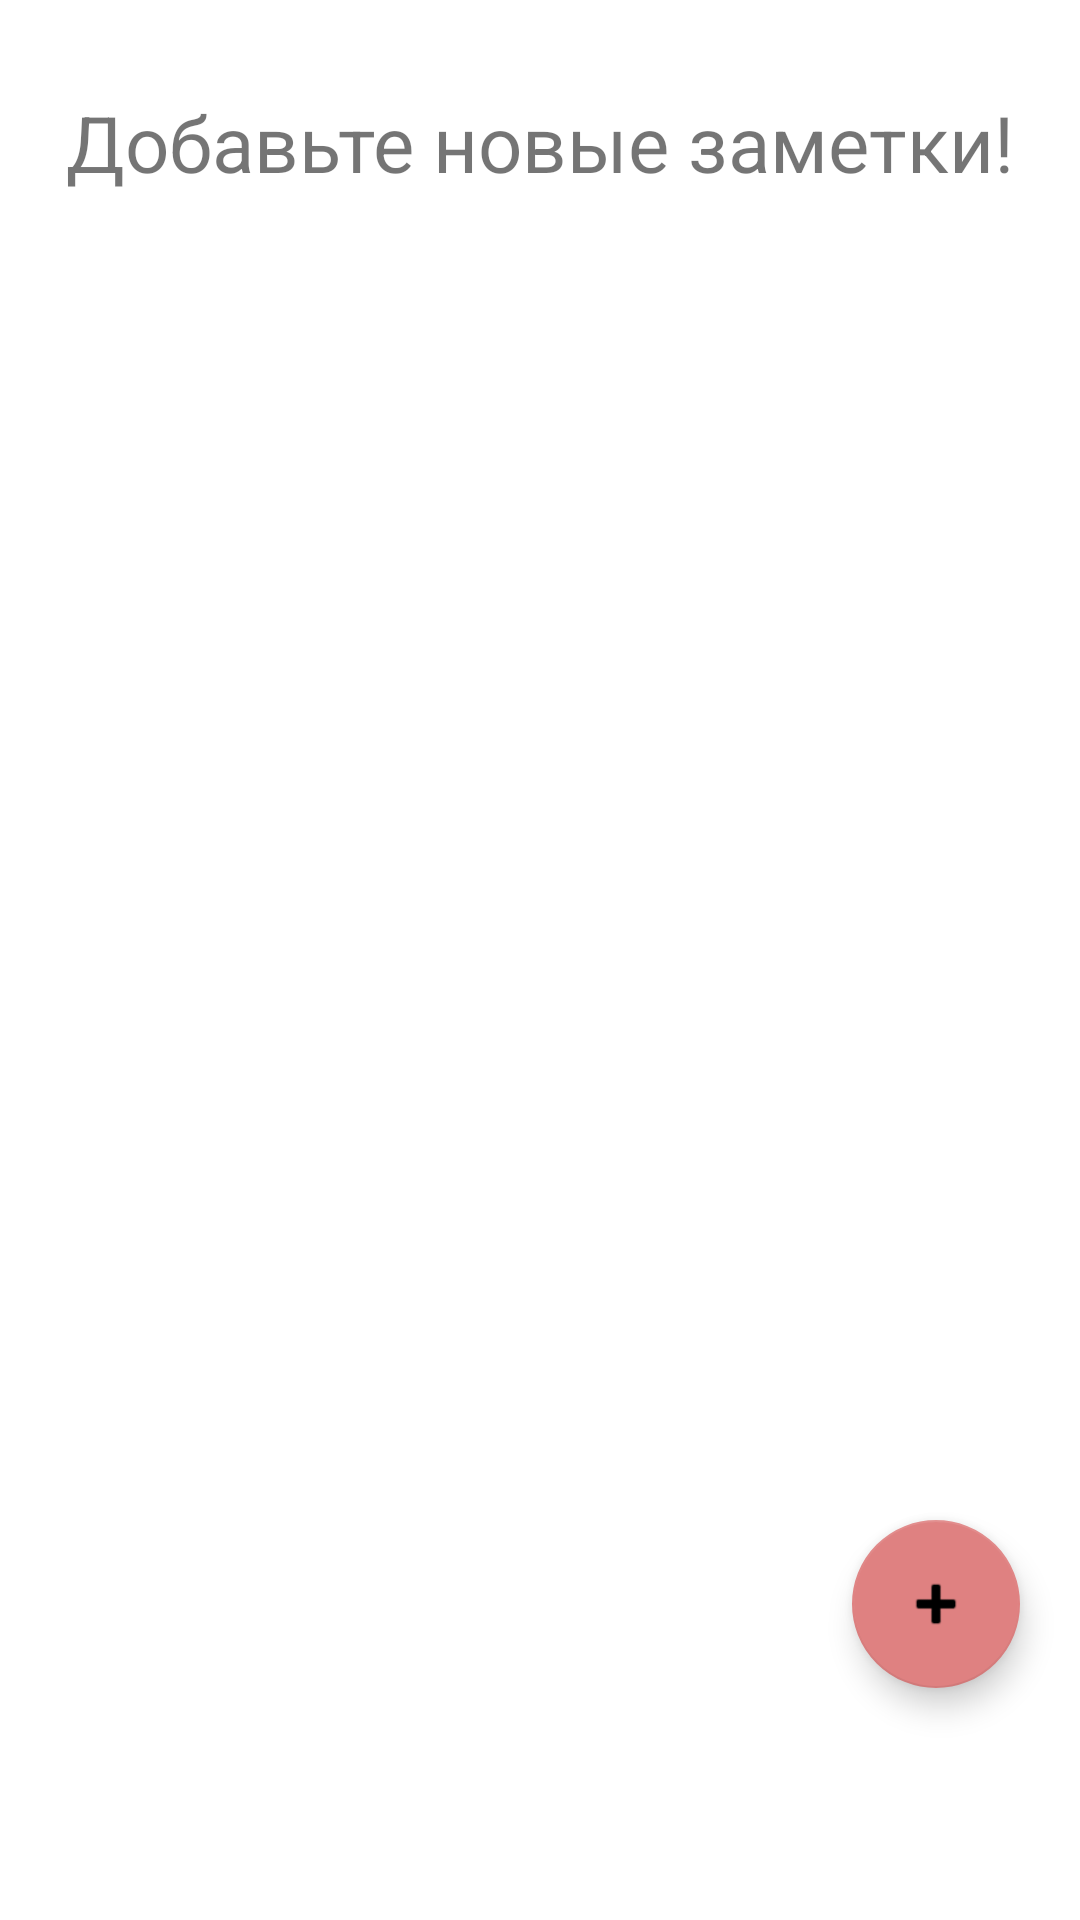

Where icons sit on this 1080x1920 app screen, as box=[x1, y1, x2, y2]:
add: box=[852, 1520, 1020, 1688]
